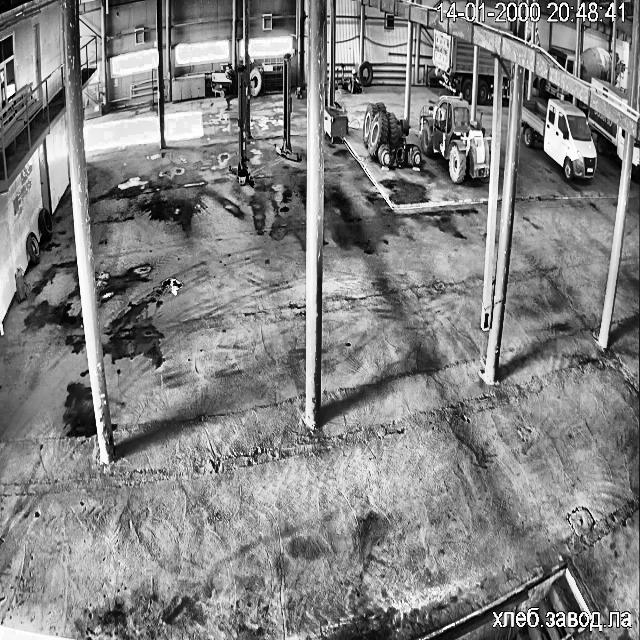class6: (420, 96, 489, 182), (362, 102, 420, 166)
class7: (522, 100, 596, 180), (432, 28, 472, 100), (588, 108, 624, 158), (580, 45, 611, 82), (477, 48, 494, 102), (592, 78, 628, 102), (535, 78, 572, 100), (548, 45, 574, 73), (632, 140, 640, 174), (499, 77, 508, 97), (504, 60, 510, 73), (616, 61, 620, 76)
tractor: (16, 268, 25, 300)
truck: (275, 52, 300, 161), (230, 67, 252, 185)
